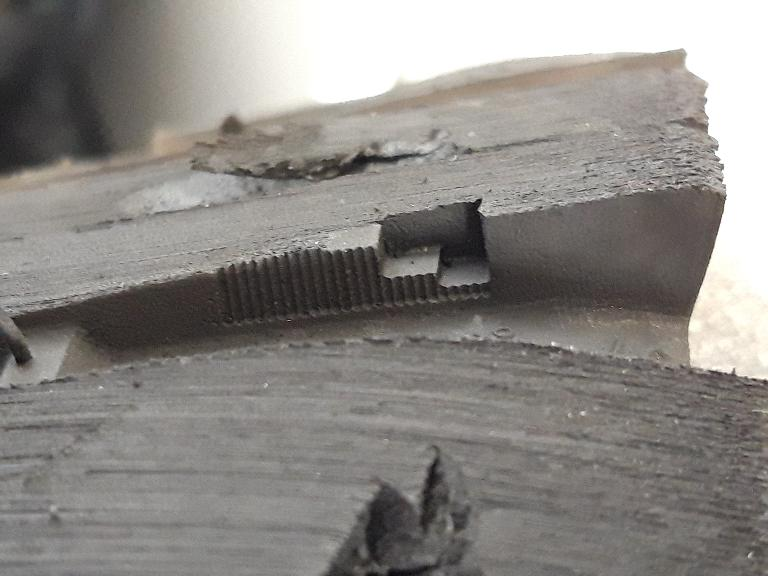temoin:50: (302, 192, 504, 340)
